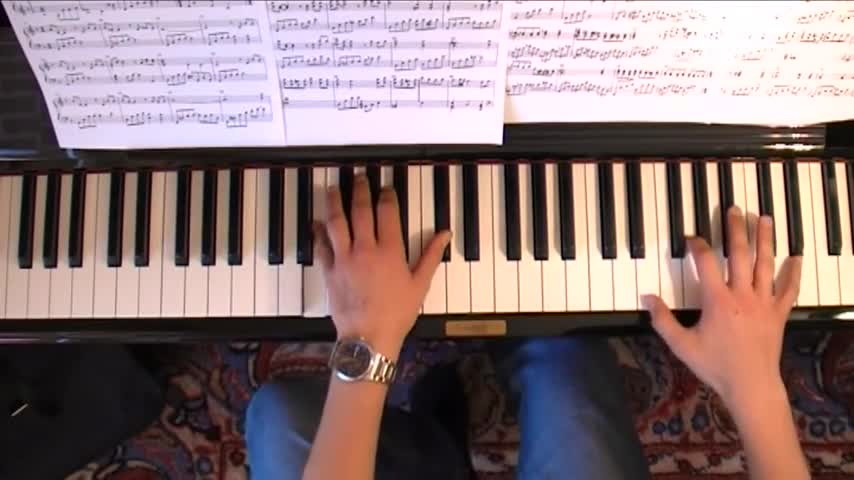left: (314, 174, 453, 336)
right: (645, 206, 803, 378)
